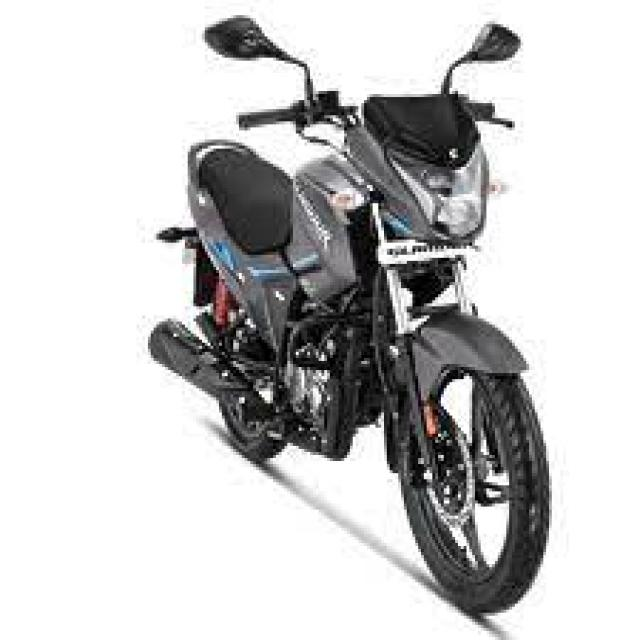Bike: (148, 16, 552, 615)
